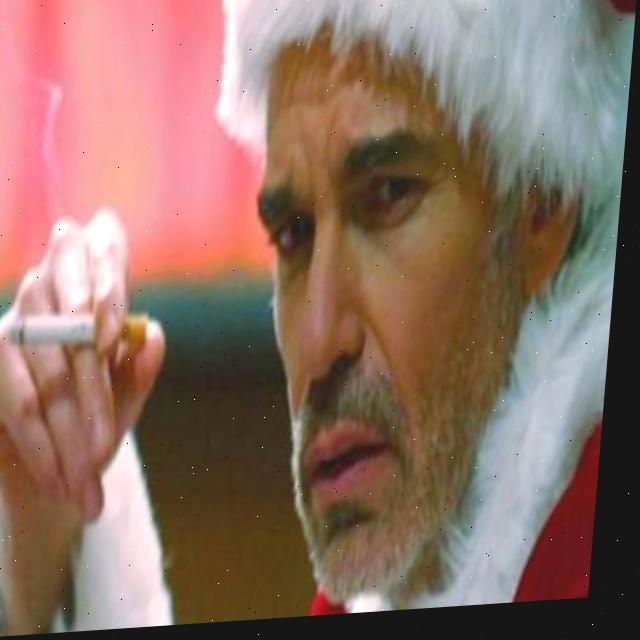cigarette: (10, 309, 157, 358)
